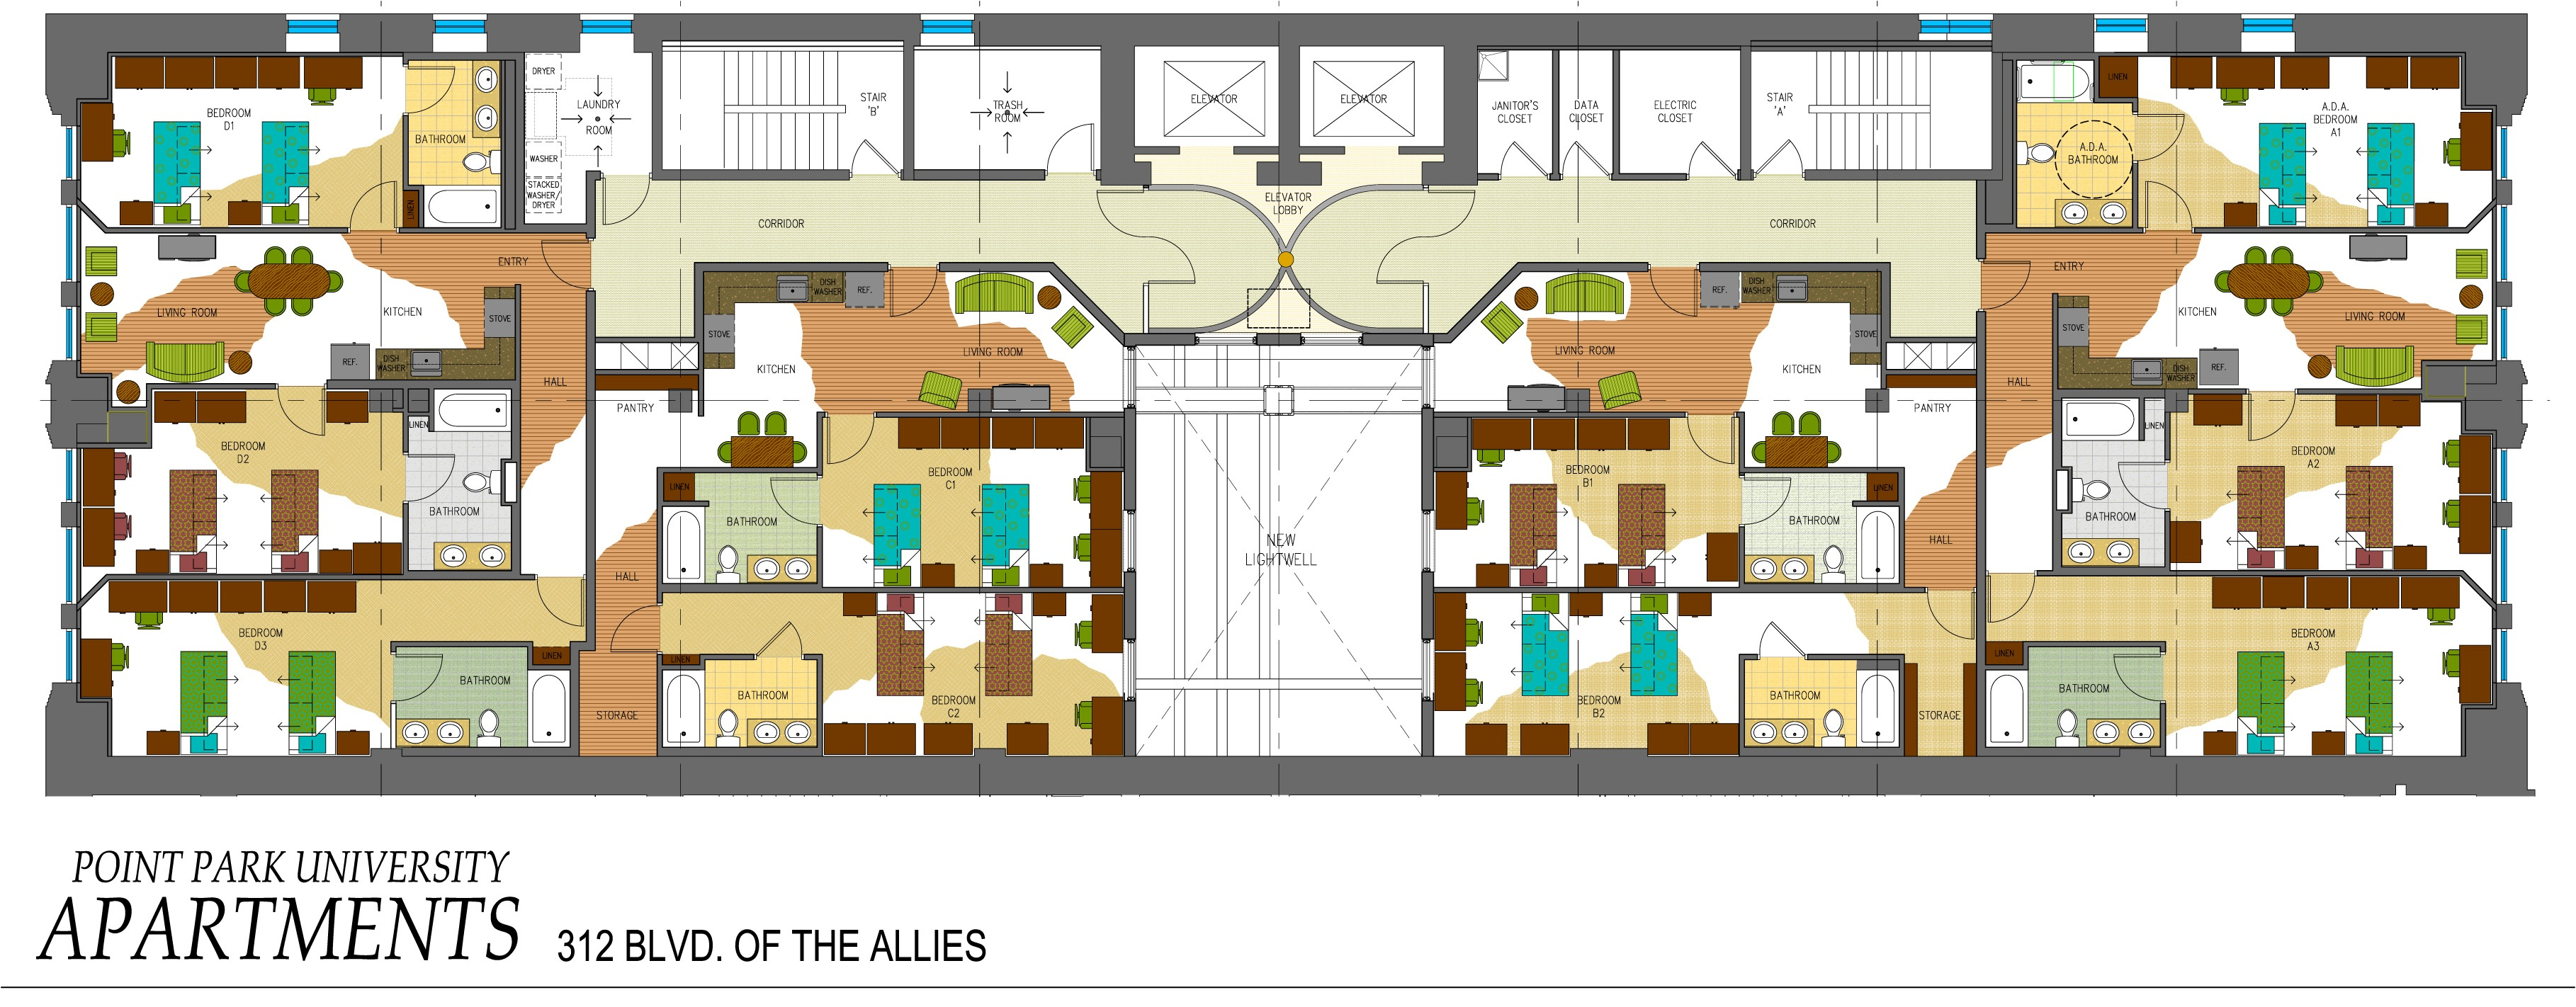door: (1738, 473, 1792, 526), (2113, 458, 2165, 511), (1684, 419, 1738, 470), (1985, 573, 2039, 624), (823, 416, 876, 467), (1922, 591, 1975, 642), (2113, 652, 2165, 703), (767, 473, 823, 521), (2244, 401, 2300, 447), (407, 452, 458, 501), (394, 652, 445, 701), (536, 578, 585, 629), (754, 618, 803, 662)
